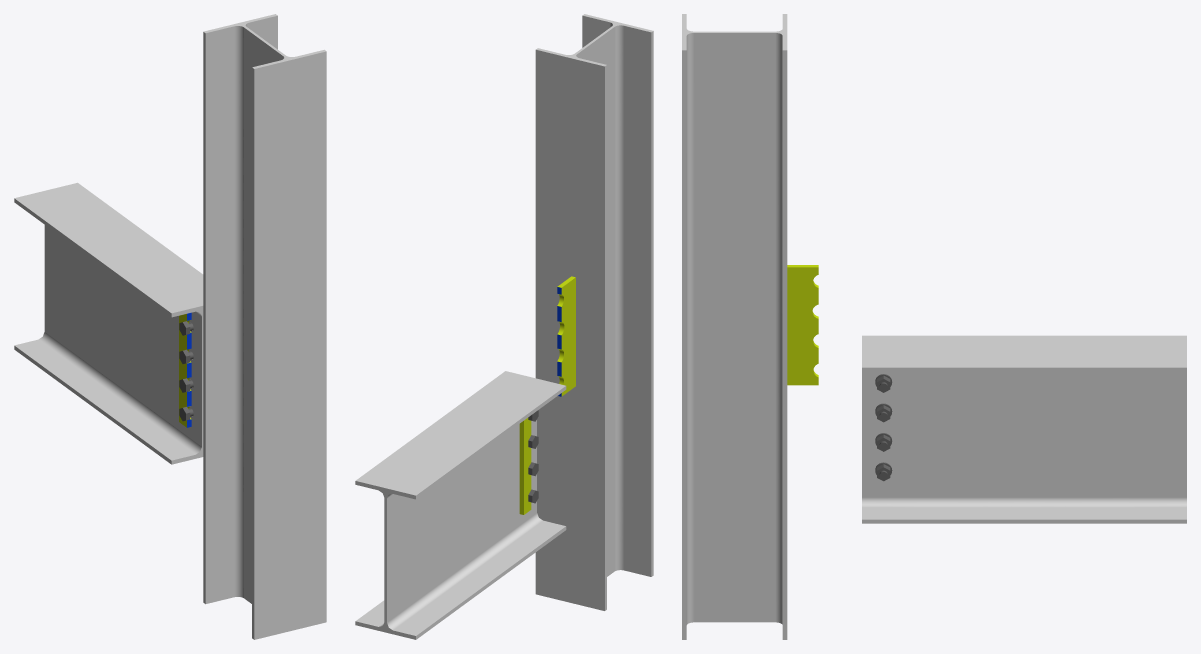
The model's file is 3-Shear Rupture (plate).glb.
The picture shows the model from 3 angles, left to right: view 1: azimuth 30°, elevation 25°; view 2: azimuth 150°, elevation 25°; view 3: azimuth 270°, elevation 25°; orthographic projection. The views are drawn at different scales.
Visible parts, largest first — view 1: W-Wide Flange-Column W10X33 (1) [1245414], W-Wide Flange W16X36 (1) [1518880], [1715587], [1715589]; view 2: W-Wide Flange-Column W10X33 (1) [1245414], W-Wide Flange W16X36 (1) [1518880], [1717144], [1715587], [1715589]; view 3: W-Wide Flange-Column W10X33 (1) [1245414], W-Wide Flange W16X36 (1) [1518880], [1717144], [1715589].
Part boxes in pixels (left/top/right/bottom): W-Wide Flange-Column W10X33 (1) [1245414]: left=203, top=14, right=326, bottom=639; W-Wide Flange W16X36 (1) [1518880]: left=14, top=182, right=203, bottom=464; [1715587]: left=179, top=312, right=191, bottom=427; [1715589]: left=179, top=321, right=193, bottom=421; W-Wide Flange-Column W10X33 (1) [1245414]: left=535, top=14, right=653, bottom=610; W-Wide Flange W16X36 (1) [1518880]: left=355, top=371, right=566, bottom=639; [1717144]: left=557, top=276, right=575, bottom=396; [1715587]: left=519, top=417, right=531, bottom=514; [1715589]: left=528, top=410, right=538, bottom=503; W-Wide Flange-Column W10X33 (1) [1245414]: left=682, top=14, right=787, bottom=639; W-Wide Flange W16X36 (1) [1518880]: left=862, top=335, right=1186, bottom=523; [1717144]: left=787, top=265, right=818, bottom=385; [1715589]: left=875, top=374, right=892, bottom=481.
Size of the model in its own units: 0.2022 by 1.52 by 1.18.
